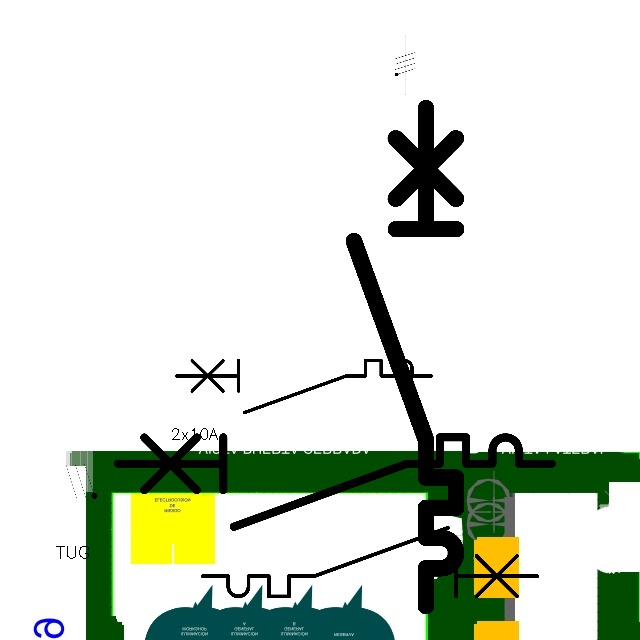interruptor_termomagnetico: (341, 95, 469, 619), (106, 426, 562, 537), (194, 519, 546, 605), (170, 354, 438, 419)
